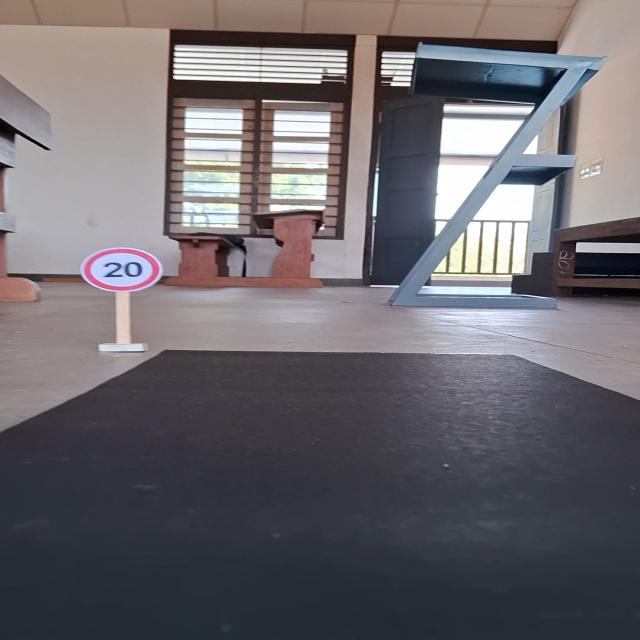Speed20: (78, 246, 167, 294)
